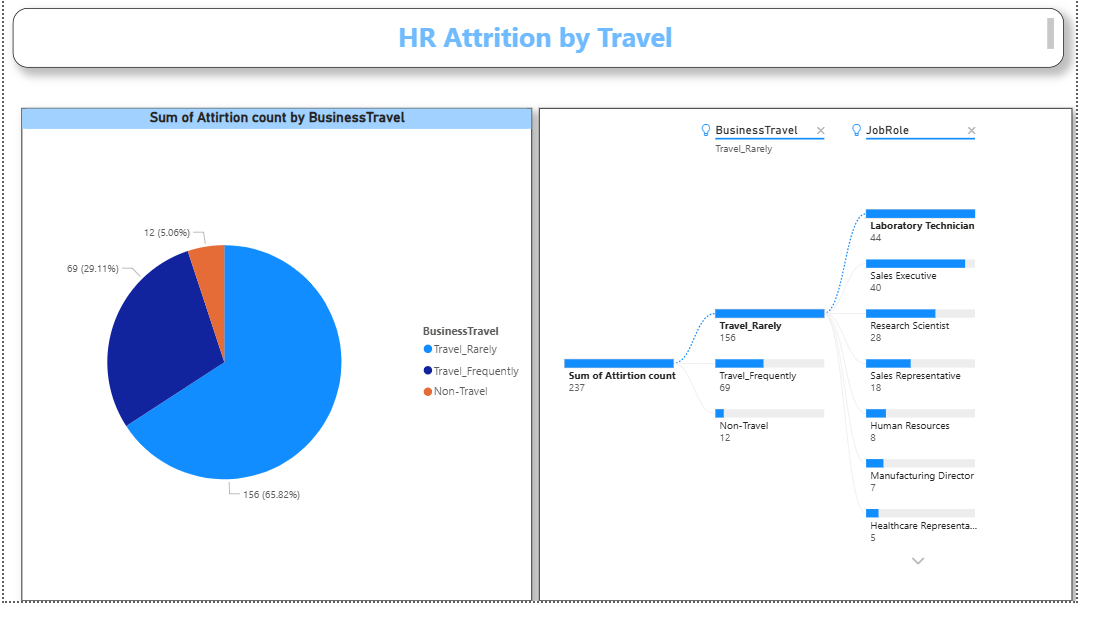

The dashboard page shown, as its layout file describes it:
{"tool":"powerbi","page":{"name":"Attrition by Travel","canvas":[1280,720],"ordinal":1},"visuals":[{"type":"textbox","box":[11,12.3,1255.6,71.4],"z":0},{"type":"pieChart","fields":{"Category":["HR_Analytics.BusinessTravel"],"Y":["Sum(HR_Analytics.Attirtion count)"]},"box":[11,131.7,598.3,553],"z":1000},{"type":"decompositionTreeVisual","fields":{"Analyze":["Sum(HR_Analytics.Attirtion count)"],"ExplainBy":["HR_Analytics.BusinessTravel","HR_Analytics.JobRole"]},"box":[639.5,131.7,616.1,542],"z":2000}]}

Visuals, with their boxes in screenshot pixels (x1, y1, x2, y2), scaled from the page's 1280x720 canvas onto the 1105x632 screenshot:
textbox: locate(9, 11, 1093, 73)
pieChart - HR_Analytics.BusinessTravel x Sum(HR_Analytics.Attirtion count): locate(9, 116, 526, 601)
decompositionTreeVisual - Sum(HR_Analytics.Attirtion count) x HR_Analytics.BusinessTravel: locate(552, 116, 1084, 591)
